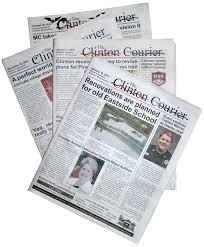Printing industry: (3, 5, 204, 247)
